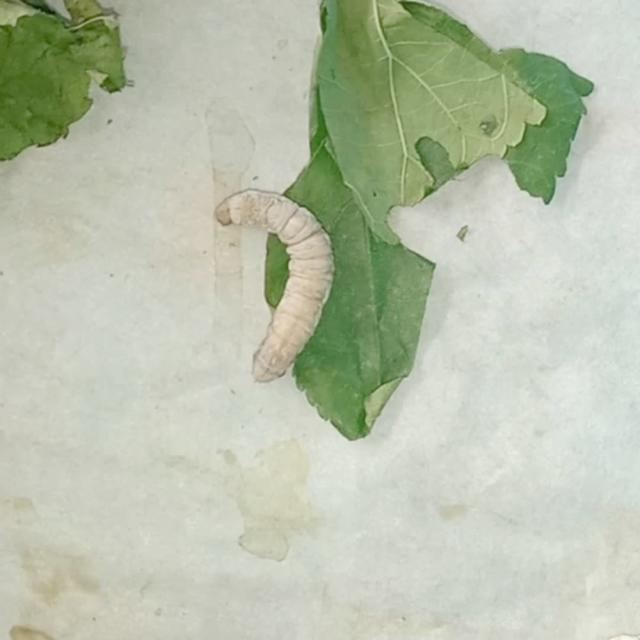Grasserie: (187, 158, 360, 416)
